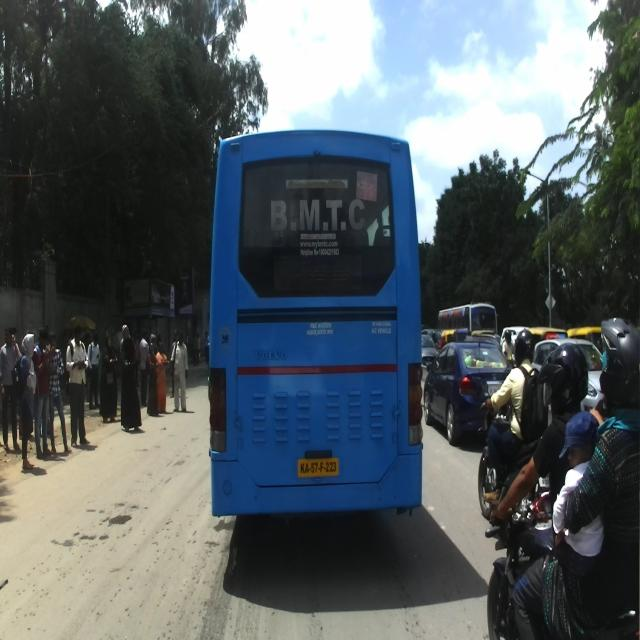bus: (206, 125, 425, 524)
car: (423, 333, 511, 445)
motorcycle: (484, 462, 640, 640)
